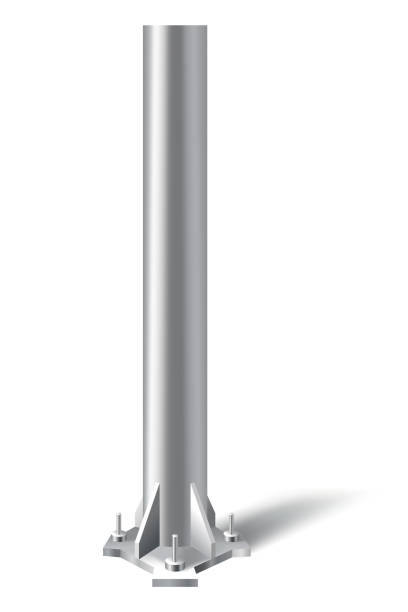light_pole: (138, 23, 218, 560)
